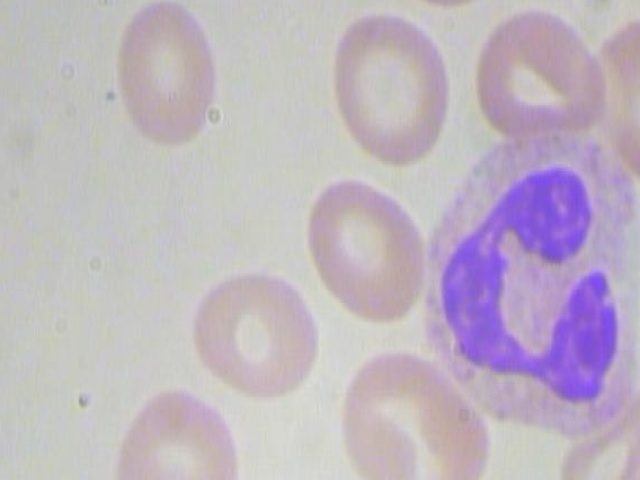RBC: (316, 1, 457, 172), (100, 0, 242, 163), (335, 338, 493, 480), (306, 161, 434, 330), (467, 0, 620, 139), (173, 269, 324, 398), (104, 380, 246, 480), (587, 16, 640, 188), (373, 0, 519, 15)
WBC: (421, 123, 640, 444)
